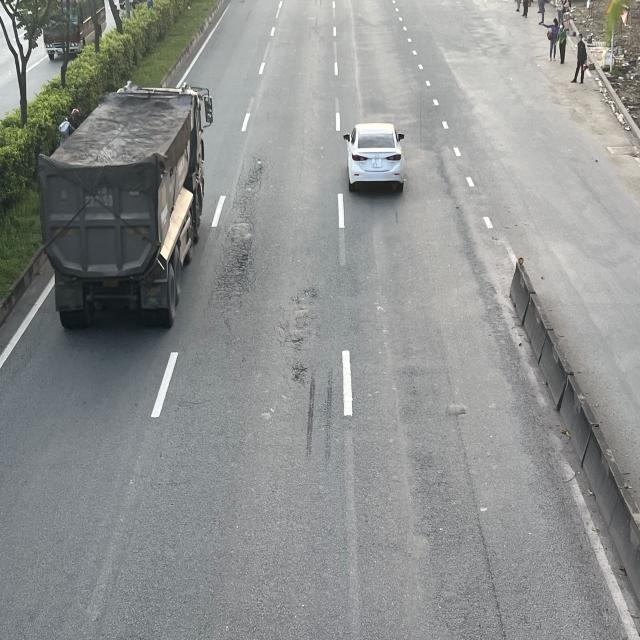car: (341, 120, 404, 192)
container: (39, 82, 213, 329)
